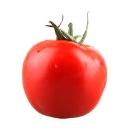tomato: (21, 40, 107, 118)
